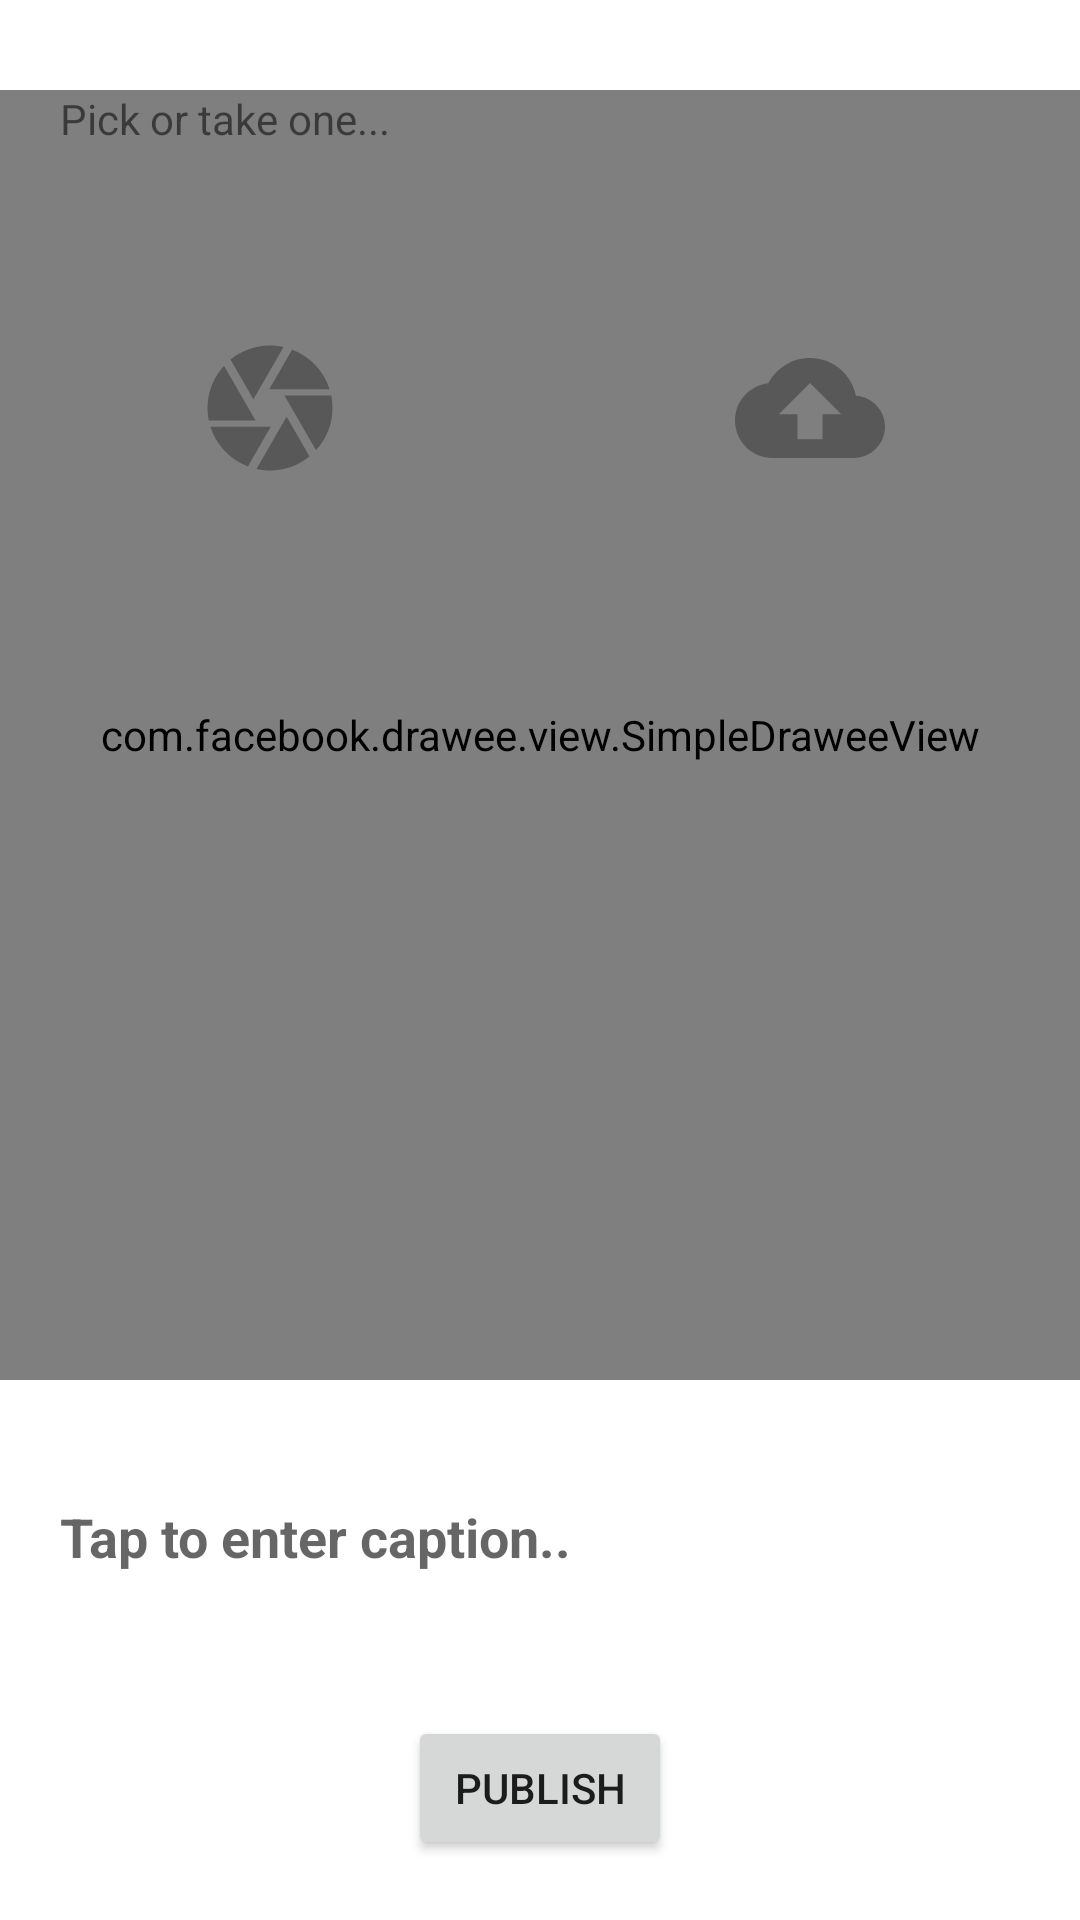

Where icons sit on this 1080 x 1920 app screen, as box=[x1, y1, x2, y2]:
camera: box=[208, 346, 332, 470]
upload: box=[735, 358, 885, 458]
